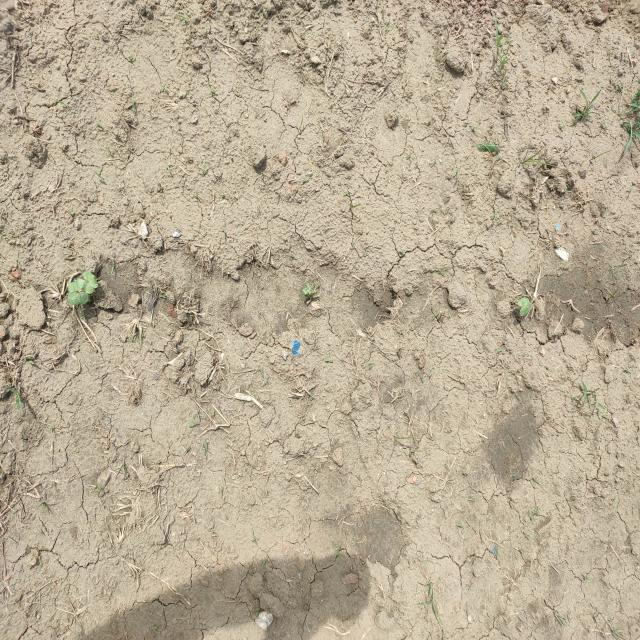seedling: (76, 278, 95, 294), (68, 292, 89, 305), (83, 271, 98, 288), (520, 302, 531, 316), (68, 282, 83, 292), (518, 297, 529, 307)
